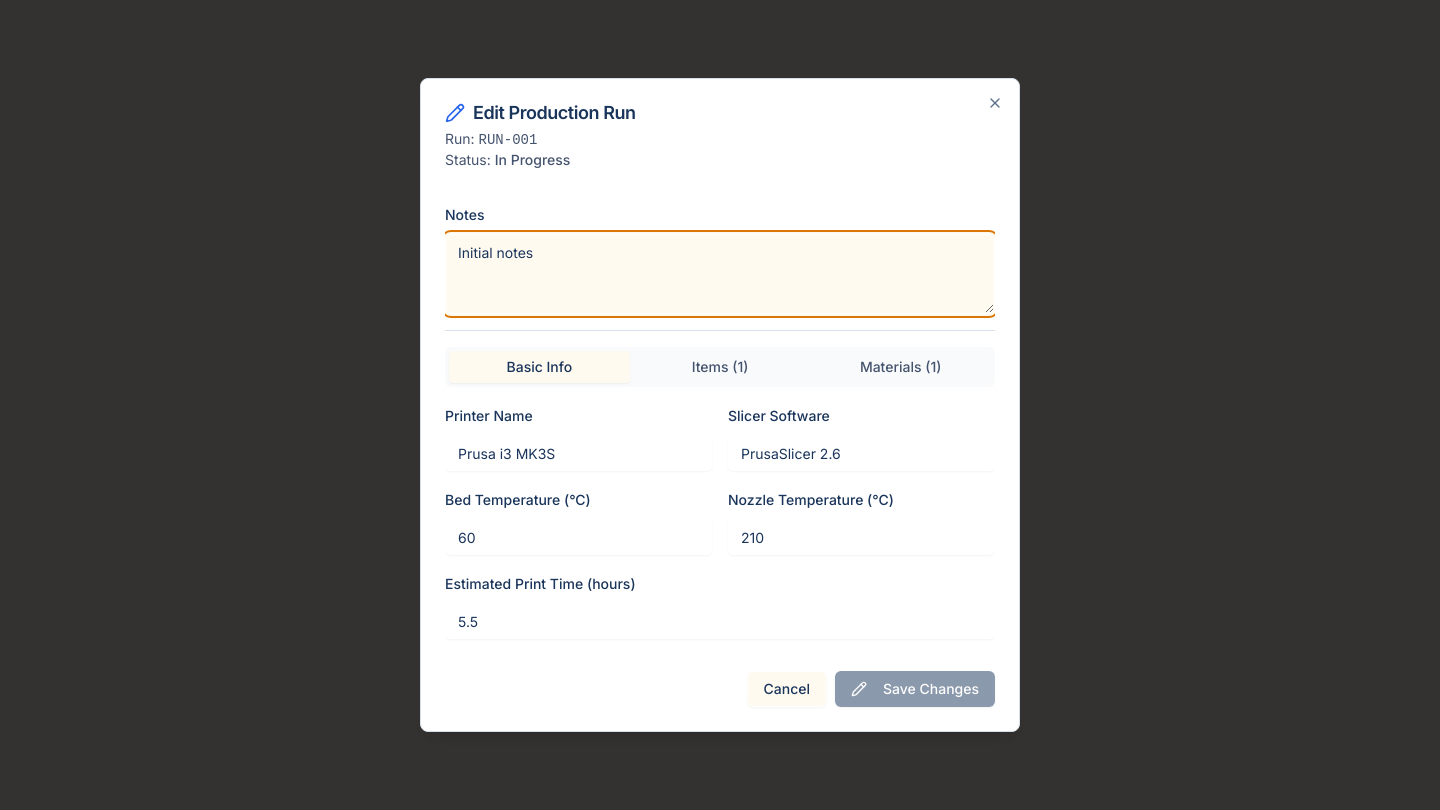
it: EditRunDialog › Form Initialization › should initialize items with correct quantities
The image size is (1440, 810).
Click the tab "Items (1)". click: (720, 367)
box: x1=630 y1=351 x2=810 y2=383
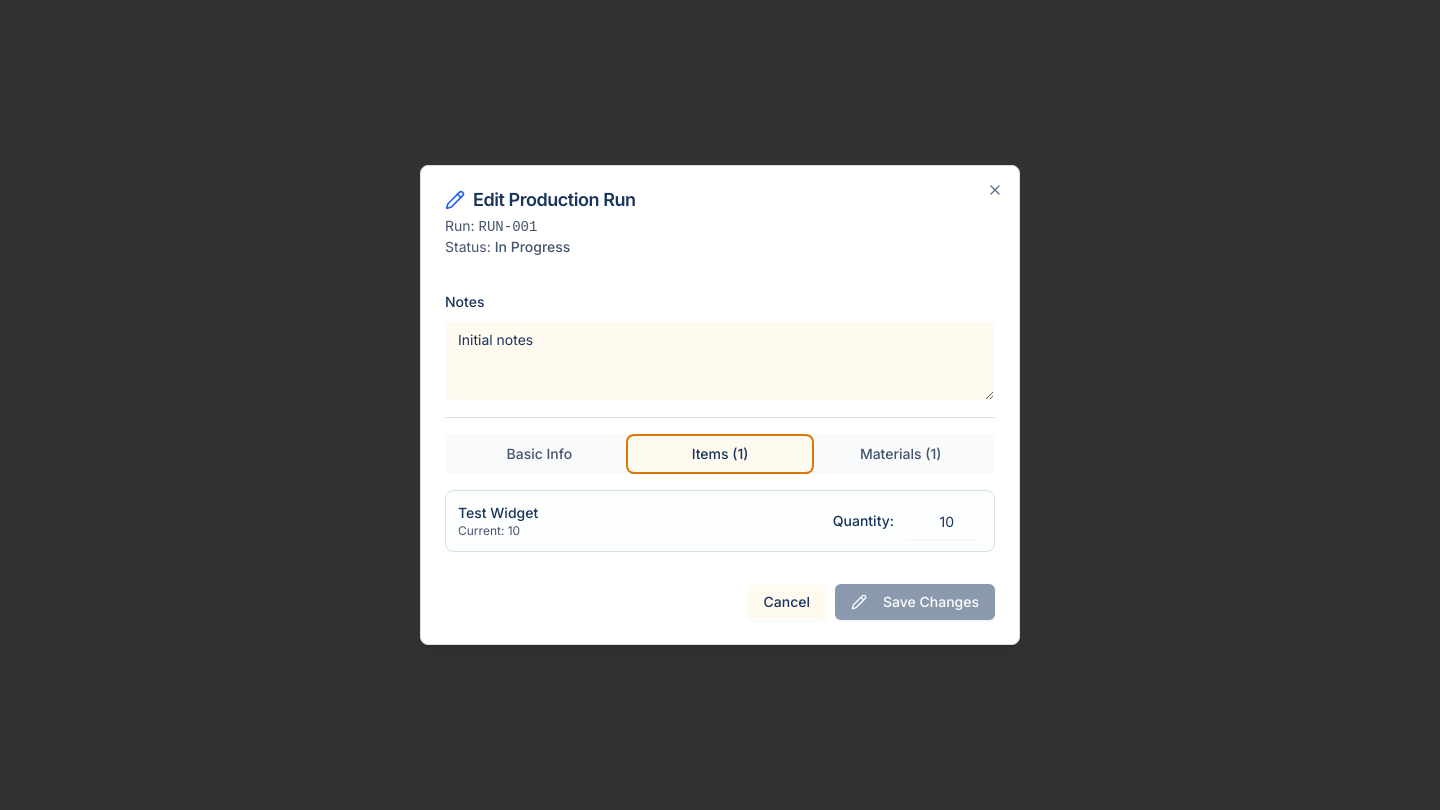
Expected: the text "Test Widget" is shown, x1=458 y1=504 x2=538 y2=521
Expected: the text "Current: 10" is shown, x1=458 y1=523 x2=520 y2=538
Expected: the number field labelled "Quantity:" holds "10", x1=902 y1=503 x2=982 y2=539
